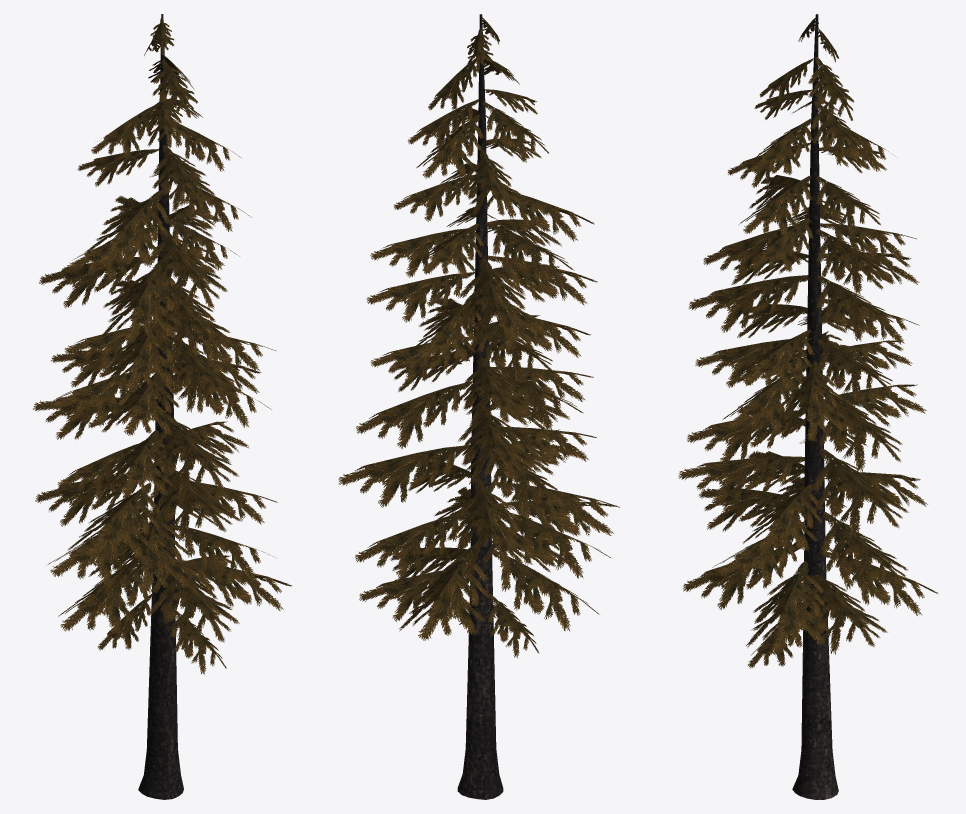
File: pine_tree_n_1_2.obj
3 renders of one model, left to right at view 1: azimuth 30°, elevation 25°; view 2: azimuth 150°, elevation 25°; view 3: azimuth 270°, elevation 25°, orthographic.
Parts seen in each view (by area): view 1: pine_tree_n_1_2_branches, pine_tree_n_1_2; view 2: pine_tree_n_1_2_branches, pine_tree_n_1_2; view 3: pine_tree_n_1_2_branches, pine_tree_n_1_2.
Boxes of the visible parts, x1=… form: pine_tree_n_1_2_branches: x1=33, y1=18, x2=292, y2=674; pine_tree_n_1_2: x1=138, y1=14, x2=183, y2=799; pine_tree_n_1_2_branches: x1=338, y1=17, x2=619, y2=658; pine_tree_n_1_2: x1=457, y1=14, x2=503, y2=799; pine_tree_n_1_2_branches: x1=678, y1=18, x2=937, y2=668; pine_tree_n_1_2: x1=792, y1=14, x2=838, y2=799.
Size of the model in its own units: 2.85 by 8.19 by 2.71.
